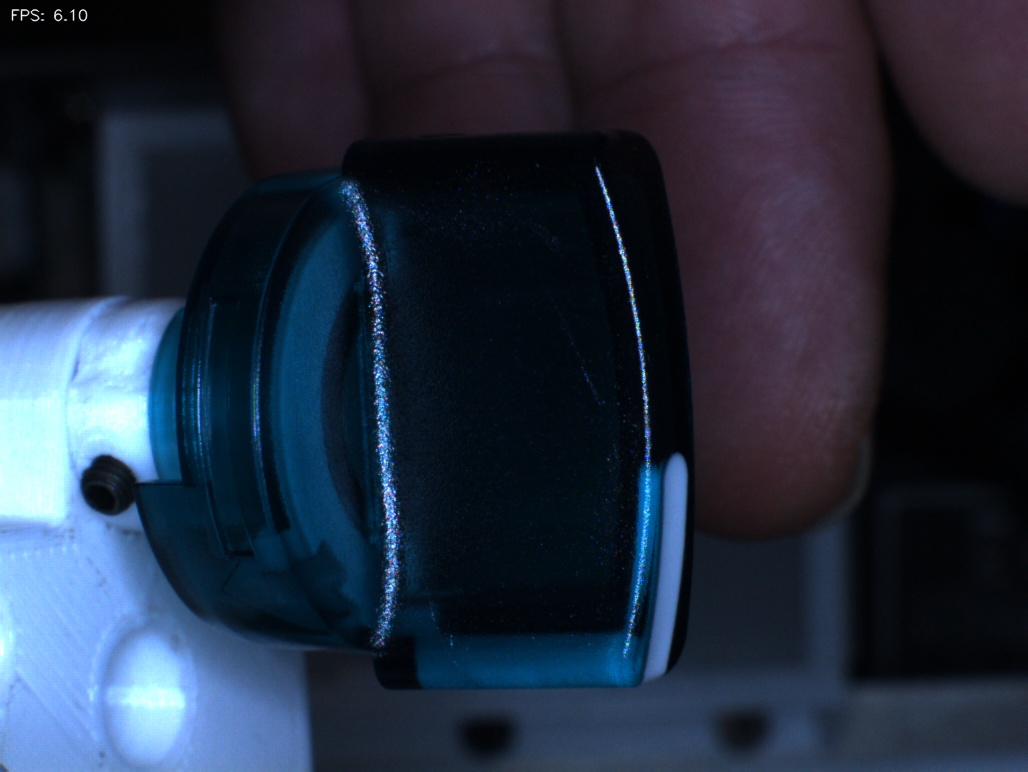Givrage: (535, 289, 619, 459), (487, 188, 596, 273)
